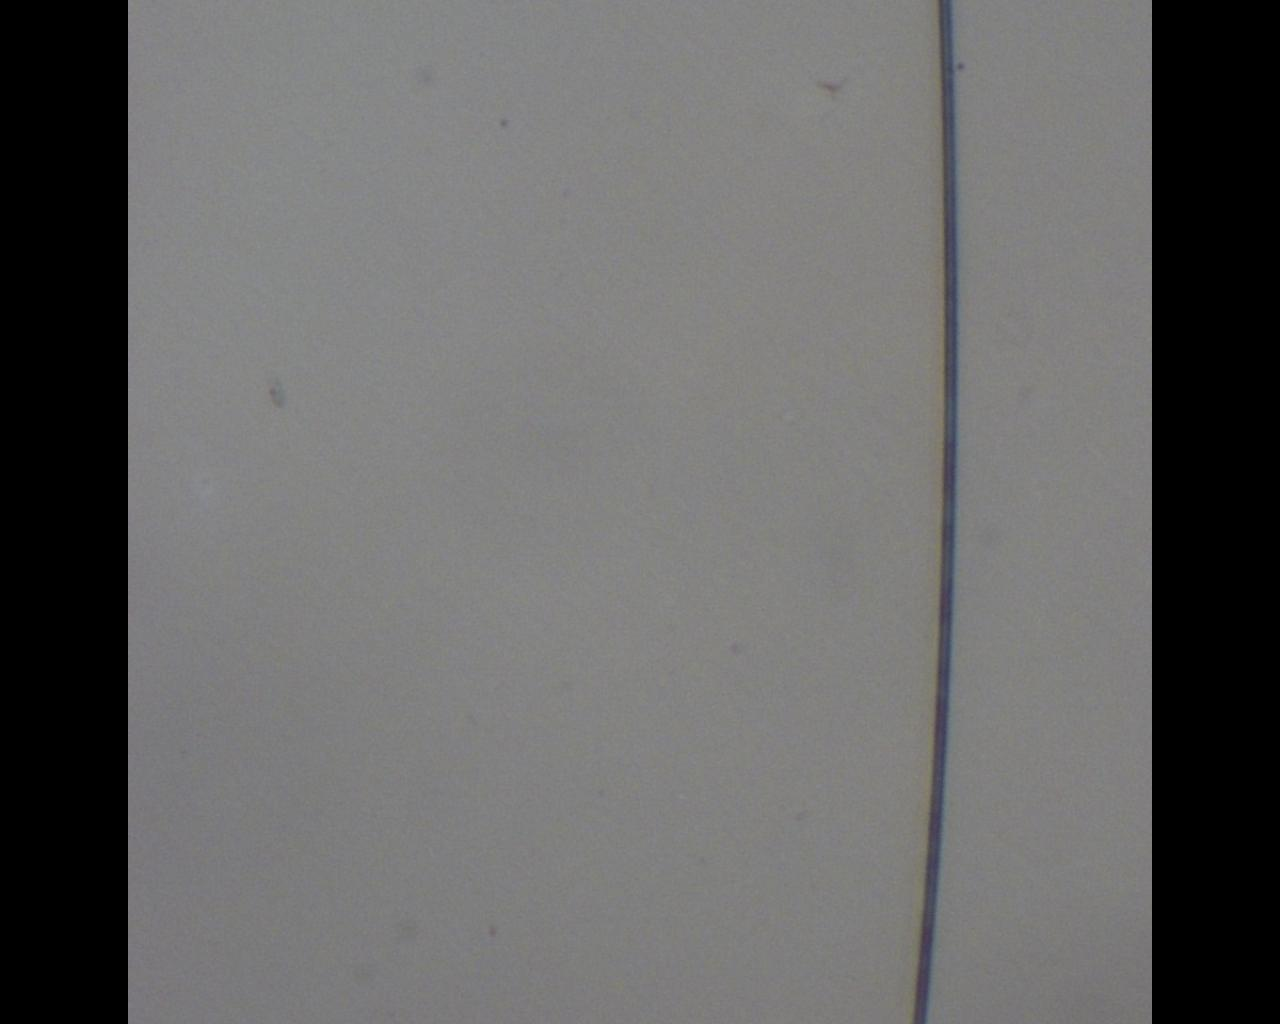fiber: (740, 51, 1152, 1024)
